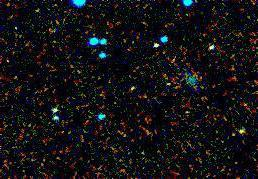star: (228, 109, 258, 139)
